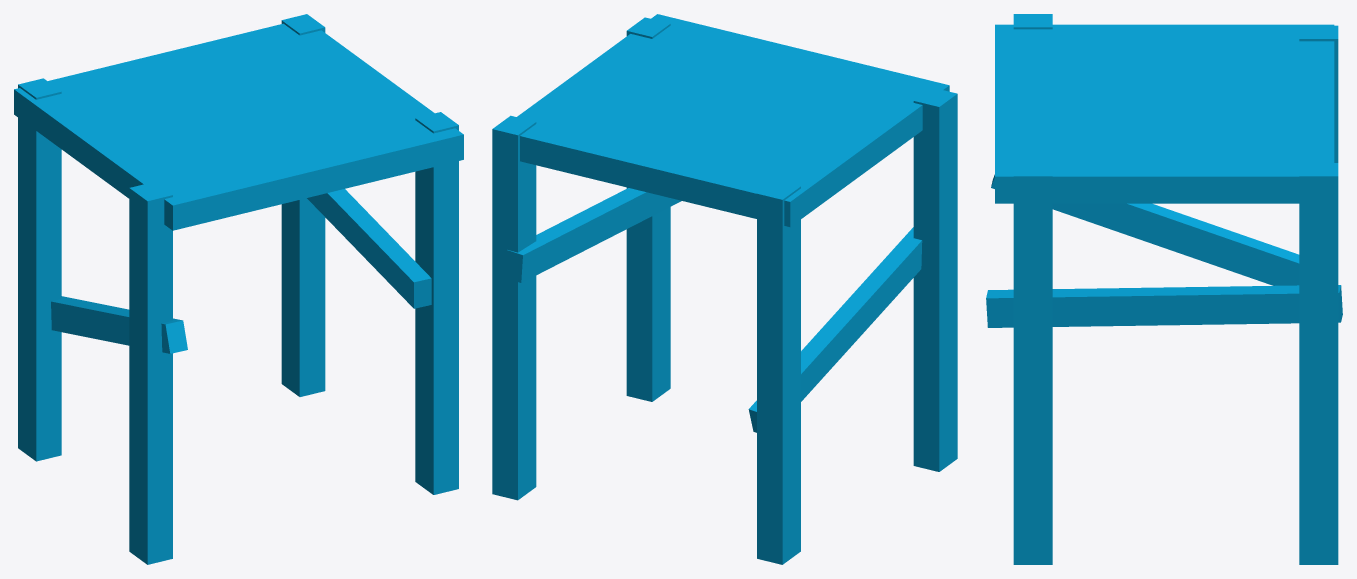
File: House_Stair_Platform_04_Lod0.fbx
3 renders of one model, left to right at view 1: azimuth 30°, elevation 25°; view 2: azimuth 150°, elevation 25°; view 3: azimuth 270°, elevation 25°, orthographic. The views are drawn at different scales.
Visible parts, largest first — view 1: House_Stair_Platform_04_Lod0; view 2: House_Stair_Platform_04_Lod0; view 3: House_Stair_Platform_04_Lod0.
Part boxes in pixels (<box>): House_Stair_Platform_04_Lod0: <box>14,14,463,564</box>; House_Stair_Platform_04_Lod0: <box>492,14,957,564</box>; House_Stair_Platform_04_Lod0: <box>986,14,1342,564</box>.
Size of the model in its own units: 151 by 168 by 140.
